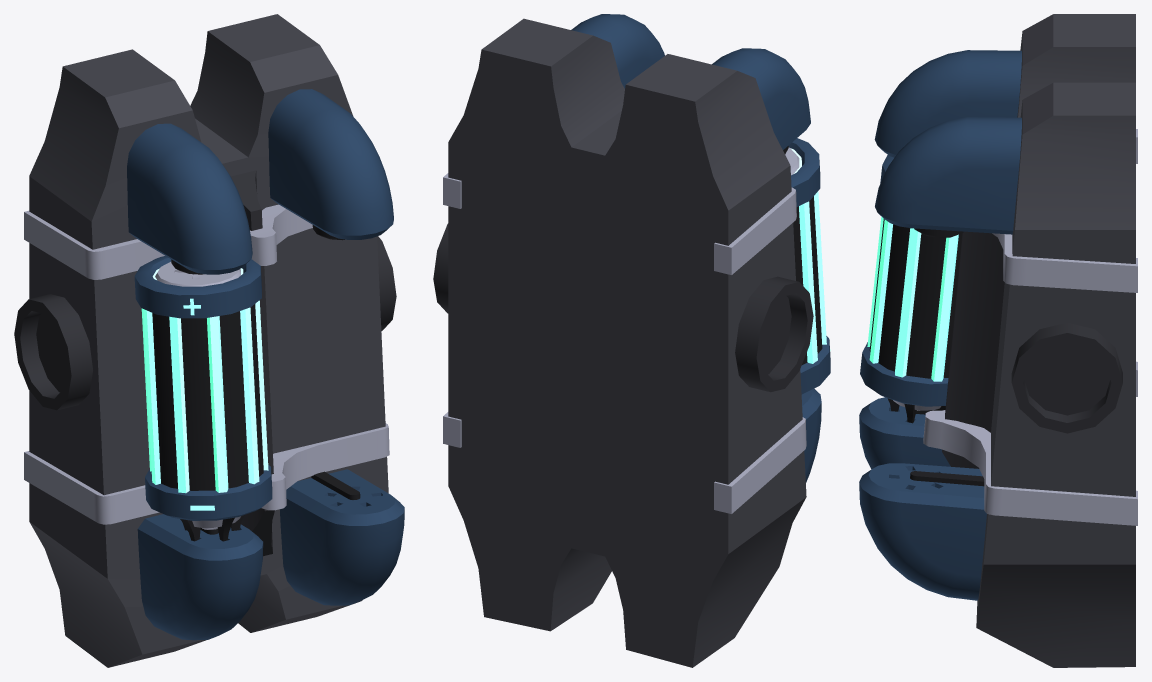
The model's file is Misc_BatteryCharger_X2_C.glb.
3 renders of one model, left to right at view 1: azimuth 30°, elevation 25°; view 2: azimuth 150°, elevation 25°; view 3: azimuth 270°, elevation 25°, orthographic. The views are drawn at different scales.
Visible parts, largest first — view 1: Misc_BatteryCharger_X2_C.001; view 2: Misc_BatteryCharger_X2_C.001; view 3: Misc_BatteryCharger_X2_C.001.
Boxes of the visible parts, x1=… form: Misc_BatteryCharger_X2_C.001: x1=14, y1=14, x2=404, y2=667; Misc_BatteryCharger_X2_C.001: x1=433, y1=14, x2=830, y2=667; Misc_BatteryCharger_X2_C.001: x1=859, y1=14, x2=1137, y2=667.
Bounding box in the file's own units: 0.1841 × 0.3091 × 0.141.
